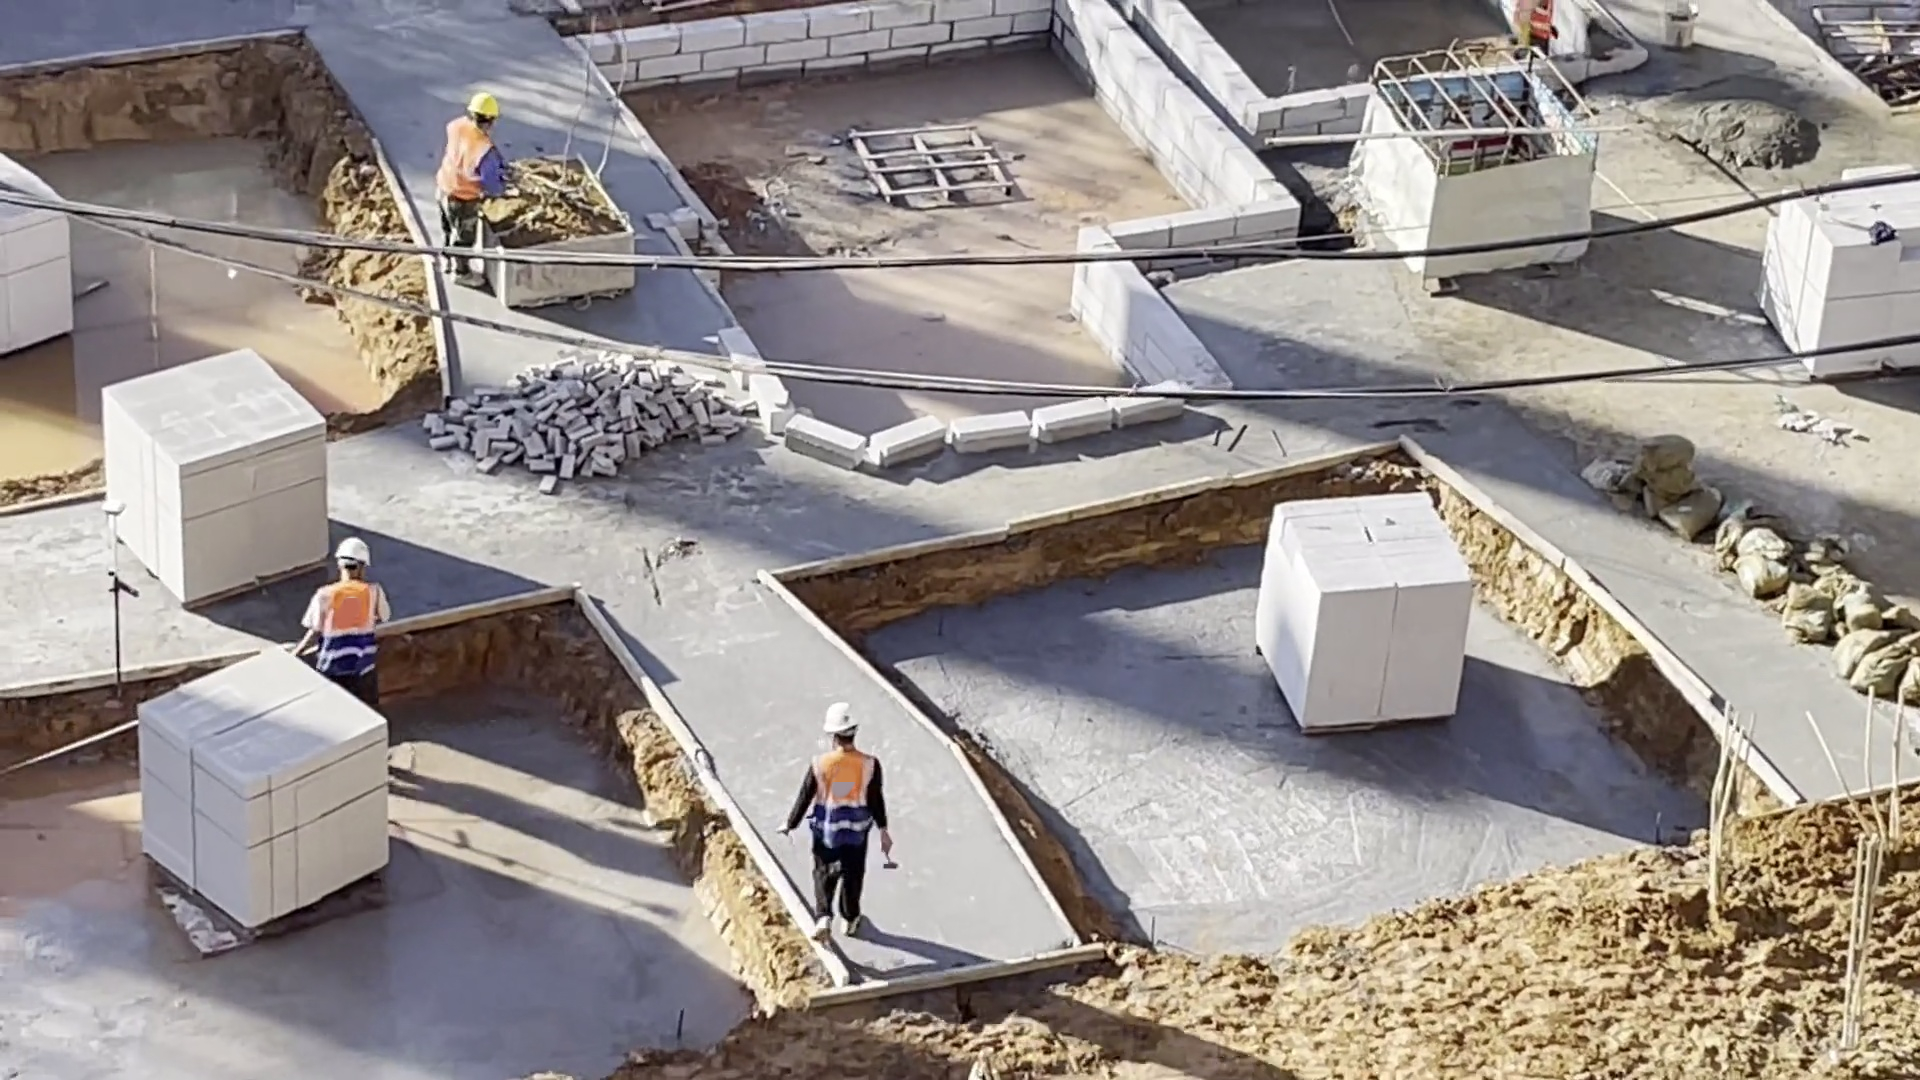brick: (128, 645, 384, 927), (99, 343, 335, 616), (1253, 479, 1473, 728), (1761, 211, 1920, 344)
helmet: (816, 700, 861, 739), (331, 539, 372, 566), (463, 89, 500, 114)
person: (777, 701, 901, 945), (296, 534, 393, 683), (433, 86, 508, 246)
vest: (808, 746, 879, 853), (312, 578, 379, 676), (439, 116, 485, 194)
